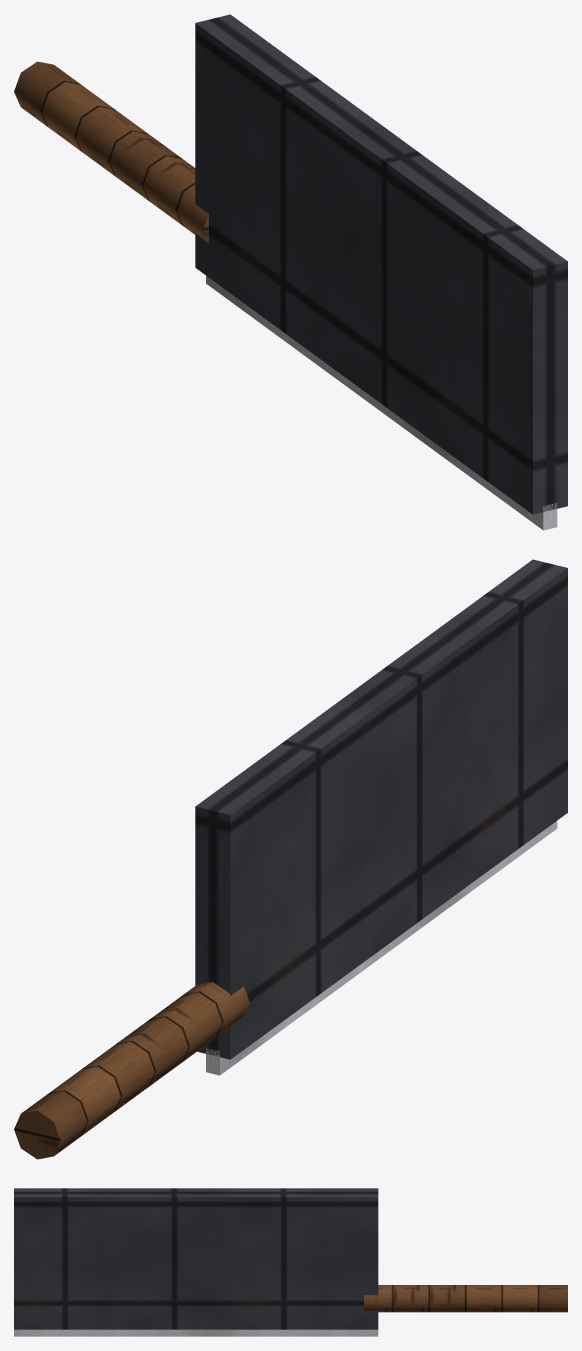
Rendered from cleaver.glb.
3 renders of one model, top to bottom at view 1: azimuth 30°, elevation 25°; view 2: azimuth 150°, elevation 25°; view 3: azimuth 270°, elevation 25°, orthographic. The views are drawn at different scales.
Visible parts, largest first — view 1: cleaver; view 2: cleaver; view 3: cleaver.
Part boxes in pixels (x1=…): cleaver: x1=14, y1=14, x2=567, y2=530; cleaver: x1=14, y1=559, x2=567, y2=1159; cleaver: x1=14, y1=1188, x2=567, y2=1336.
Size of the model in its own units: 0.04 by 0.215 by 0.76.
Materials: 3 (3 with a texture image).
